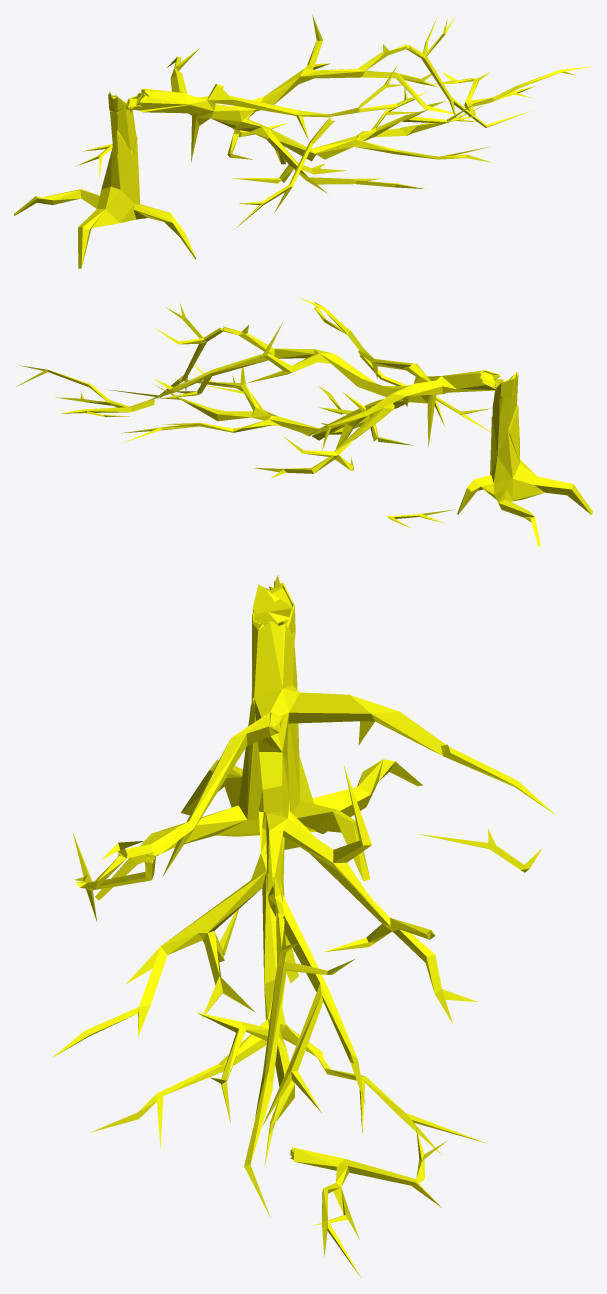
File: tree_broken.glb
3 views of the same model, one above another, from view 1: azimuth 30°, elevation 25°; view 2: azimuth 150°, elevation 25°; view 3: azimuth 270°, elevation 25° (orthographic). The views are drawn at different scales.
Visible parts, largest first — view 1: SM_Broken_Tree_LOD0; view 2: SM_Broken_Tree_LOD0; view 3: SM_Broken_Tree_LOD0.
Part boxes in pixels (box(x1,y1,x2,y2)): SM_Broken_Tree_LOD0: box(14, 15, 591, 268); SM_Broken_Tree_LOD0: box(16, 298, 592, 546); SM_Broken_Tree_LOD0: box(51, 575, 555, 1277).
Bounding box in the file's own units: 7.64 × 2.1 × 3.06.
